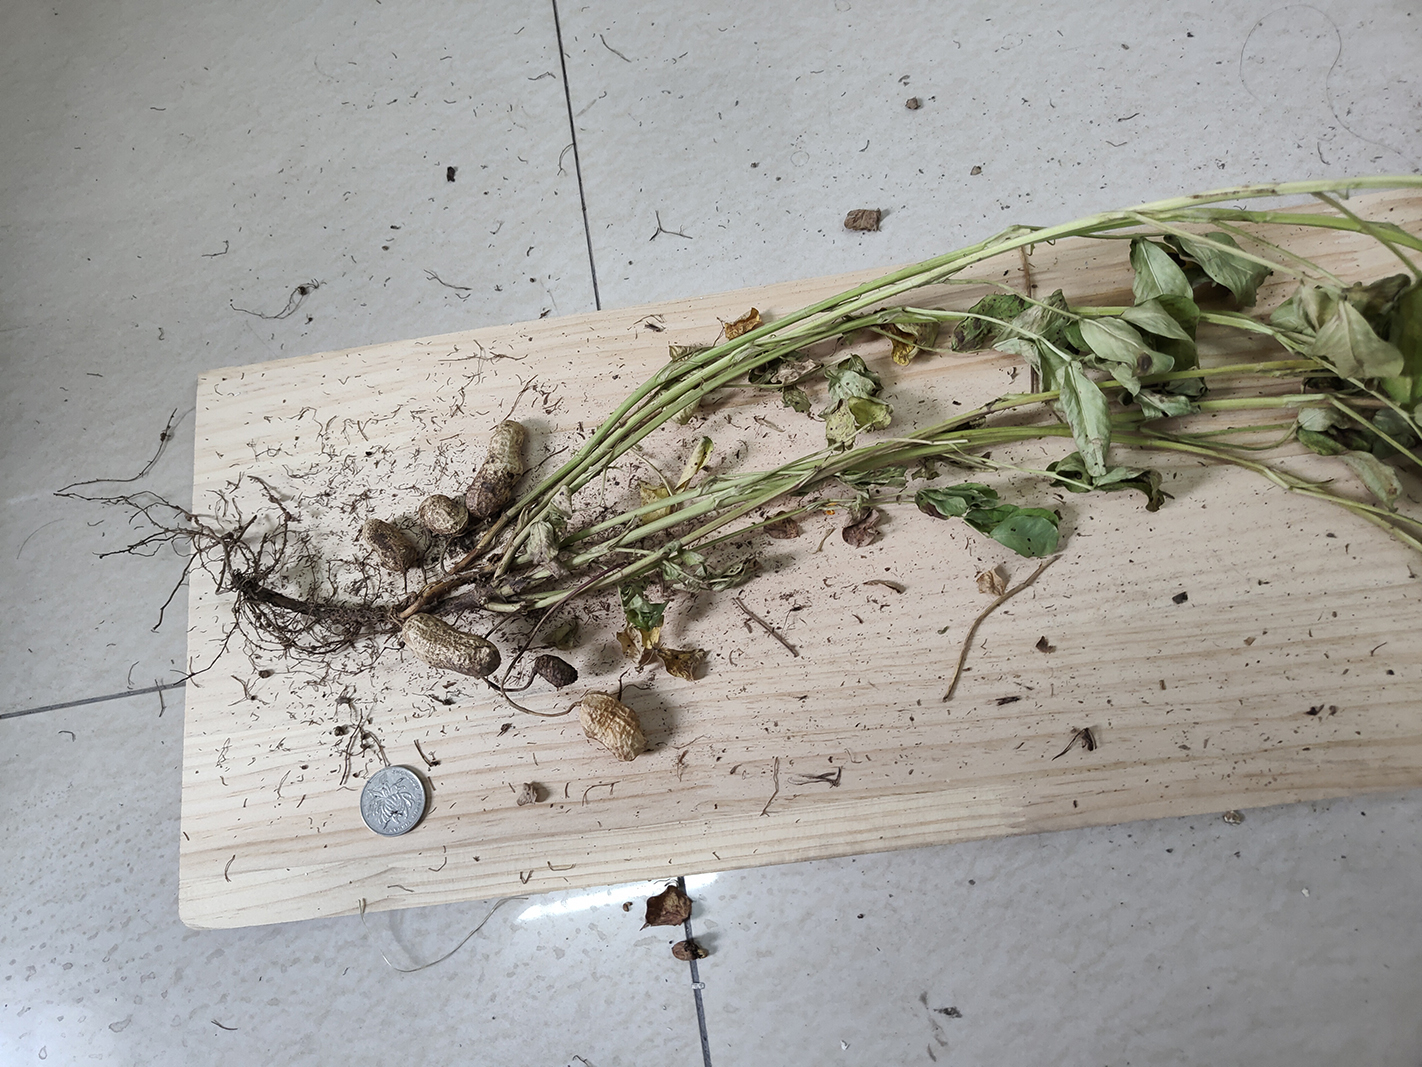h: (402, 615, 502, 678), (466, 419, 526, 519), (580, 695, 643, 762), (419, 494, 467, 536)
l: (363, 519, 417, 572), (536, 655, 577, 687)
